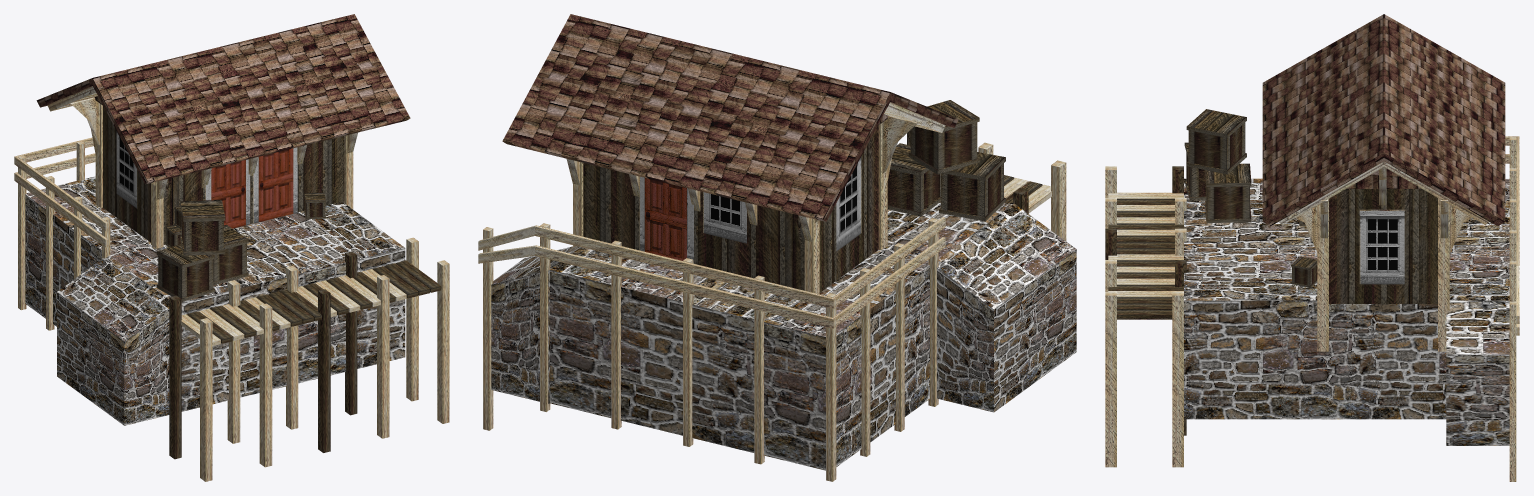
File: brit_dock.dae
3 views of the same model, side by side, from view 1: azimuth 30°, elevation 25°; view 2: azimuth 150°, elevation 25°; view 3: azimuth 270°, elevation 25° (orthographic). The views are drawn at different scales.
Parts seen in each view (by area): view 1: BRITDock; view 2: BRITDock; view 3: BRITDock.
Boxes of the visible parts, x1,y1,x2,y2 form: BRITDock: (14,14,449,481); BRITDock: (478,14,1076,481); BRITDock: (1105,14,1519,481).
Bounding box in the file's own units: 20.05 × 19.76 × 17.5.
